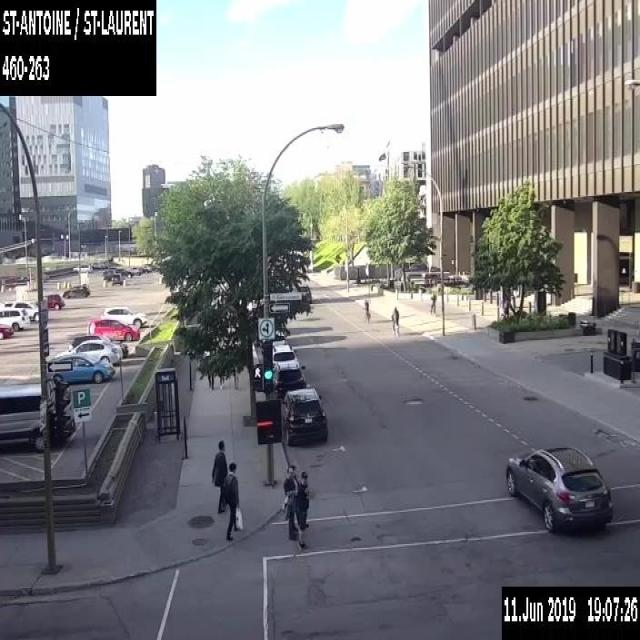pedestrian: (222, 460, 243, 540), (210, 438, 228, 513), (294, 470, 310, 549), (282, 464, 298, 539), (390, 304, 401, 340), (362, 297, 371, 324), (429, 293, 436, 316)
vehicle: (504, 441, 612, 531), (0, 382, 75, 452), (281, 386, 328, 446), (48, 352, 114, 382), (54, 338, 122, 364), (68, 334, 128, 356), (87, 317, 139, 341), (272, 361, 305, 398), (101, 305, 146, 328), (0, 306, 30, 331), (4, 300, 38, 322), (272, 344, 298, 366), (36, 292, 64, 308), (62, 285, 89, 298), (272, 329, 286, 346), (0, 322, 14, 338), (72, 263, 92, 273), (125, 265, 142, 275), (111, 272, 123, 284), (102, 268, 115, 279), (116, 268, 132, 276), (140, 264, 151, 272)
